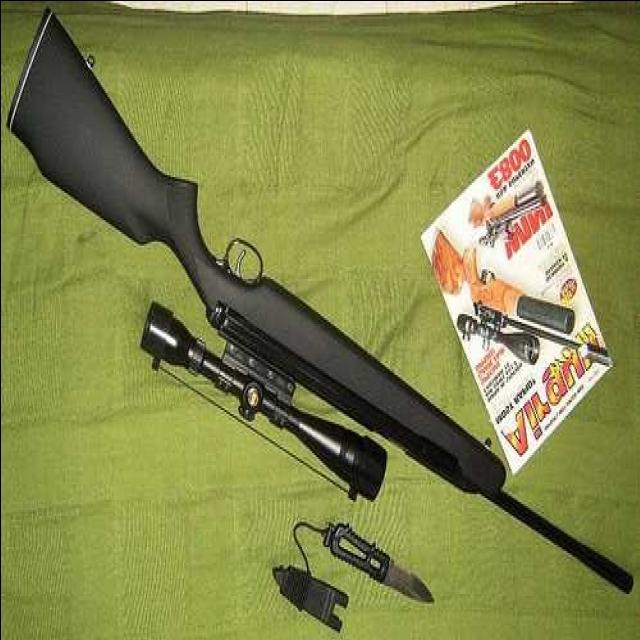heavyweapon: (10, 13, 640, 612)
